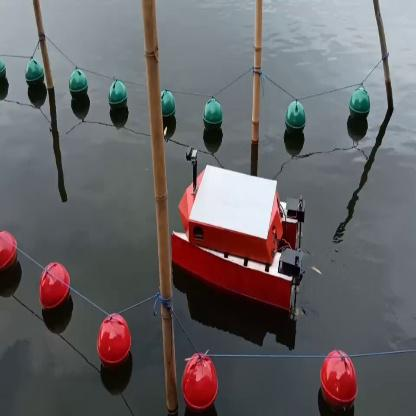green_buoy: (349, 87, 370, 126), (202, 99, 222, 135), (286, 99, 304, 136), (108, 82, 126, 118), (160, 91, 175, 127), (69, 68, 86, 99), (26, 62, 43, 92)
red_buoy: (95, 314, 136, 376), (183, 352, 220, 410), (321, 352, 354, 414), (39, 261, 69, 314), (0, 233, 19, 282)
